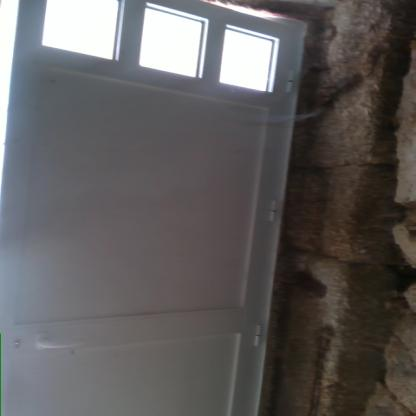closed: (0, 0, 320, 416)
